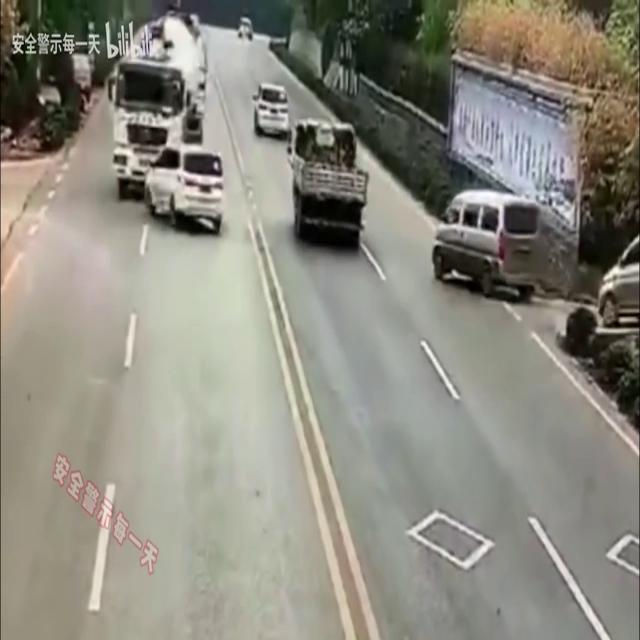accident: (107, 8, 226, 236)
non-accident: (251, 81, 369, 253)
